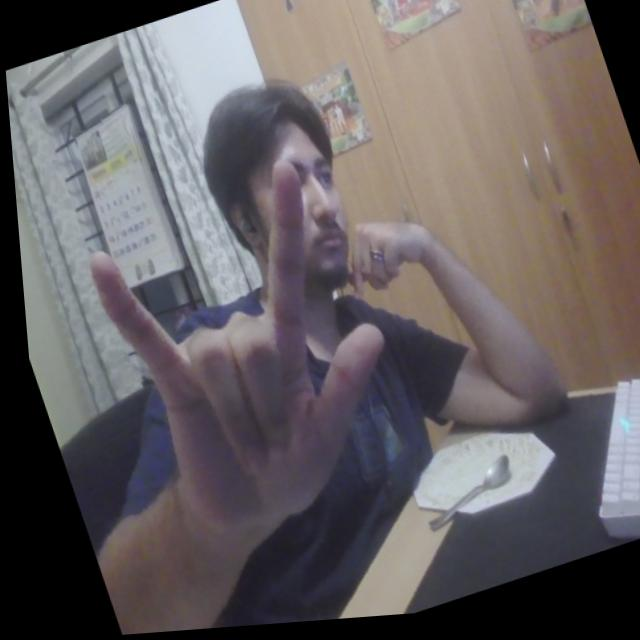iloveyou: (59, 142, 436, 577)
